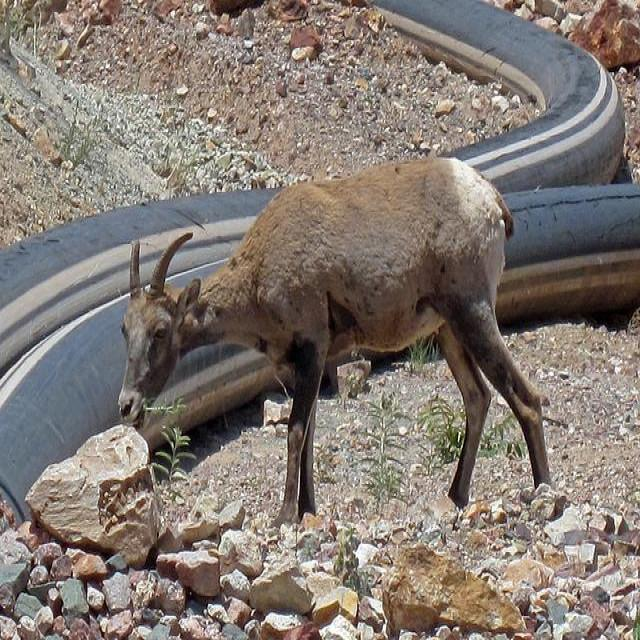Sheep: (118, 157, 553, 531)
